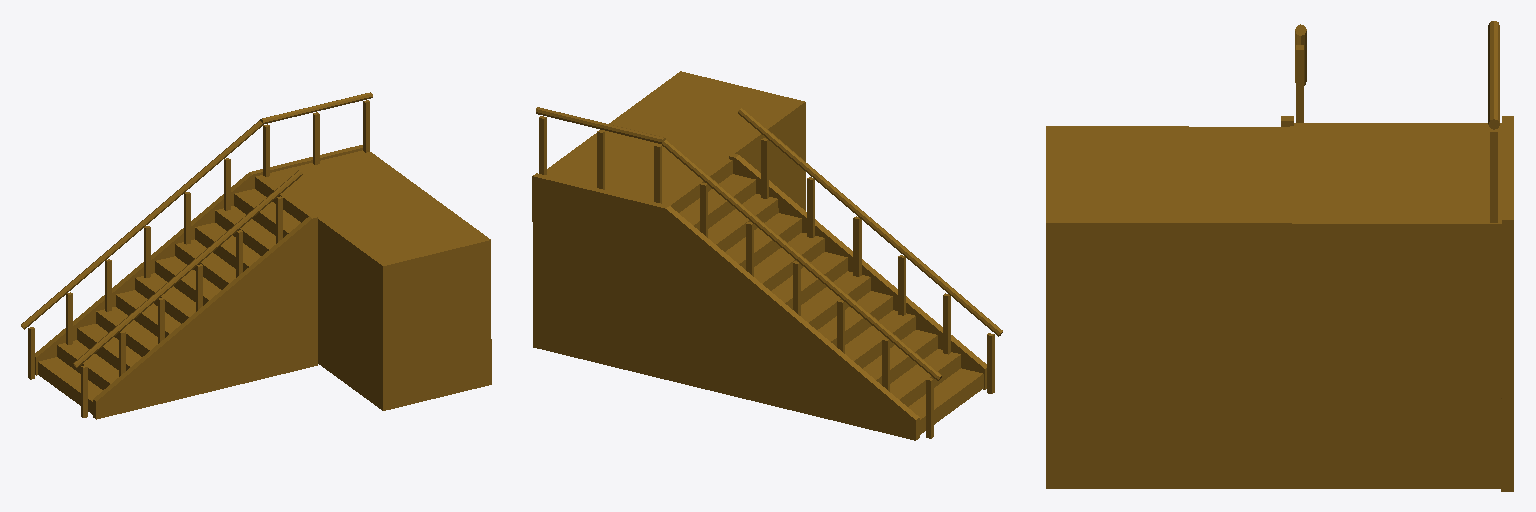
URDF robot description (stairs_1):
<?xml version="0.0" ?>
<robot name="stairs_1">

  <link name="base_link">
    <inertial>
      <origin rpy="0 0 0" xyz="0 0 0"/>
       <mass value=".0"/>
       <inertia ixx="0" ixy="0" ixz="0" iyy="0" iyz="0" izz="0"/>
    </inertial>
    <visual>
      <origin rpy="1.57 0 0" xyz="0 0 1.103"/>
      <geometry>
				<mesh filename="package://adream_simulation/models/cad_models/obj/stairs_1.obj" scale="1 1 1"/>
      </geometry>
       <material name="wood">
        <color rgba="0.572 0.427 0.152 1.0"/>
      </material>
    </visual>
  </link>

</robot>

--- Render facts (derived) ---
3 views of the same robot in one strip: view 1: azimuth 30°, elevation 25°; view 2: azimuth 150°, elevation 25°; view 3: azimuth 270°, elevation 25° (orthographic).
Robot: stairs_1 — 1 links, 0 joints (none); root link base_link; default pose: every joint at zero.
Visible links, largest first — view 1: base_link; view 2: base_link; view 3: base_link.
Boxes of the visible links, <box> form: base_link: <box>21,92,491,419</box>; base_link: <box>532,71,1002,440</box>; base_link: <box>1046,21,1513,491</box>.
Bounding box of the posed robot: 4.89 × 3.08 × 2.72 m (x, y, z).
Meshes: 1 distinct files referenced, 1 mesh visuals loaded (1 OBJ).